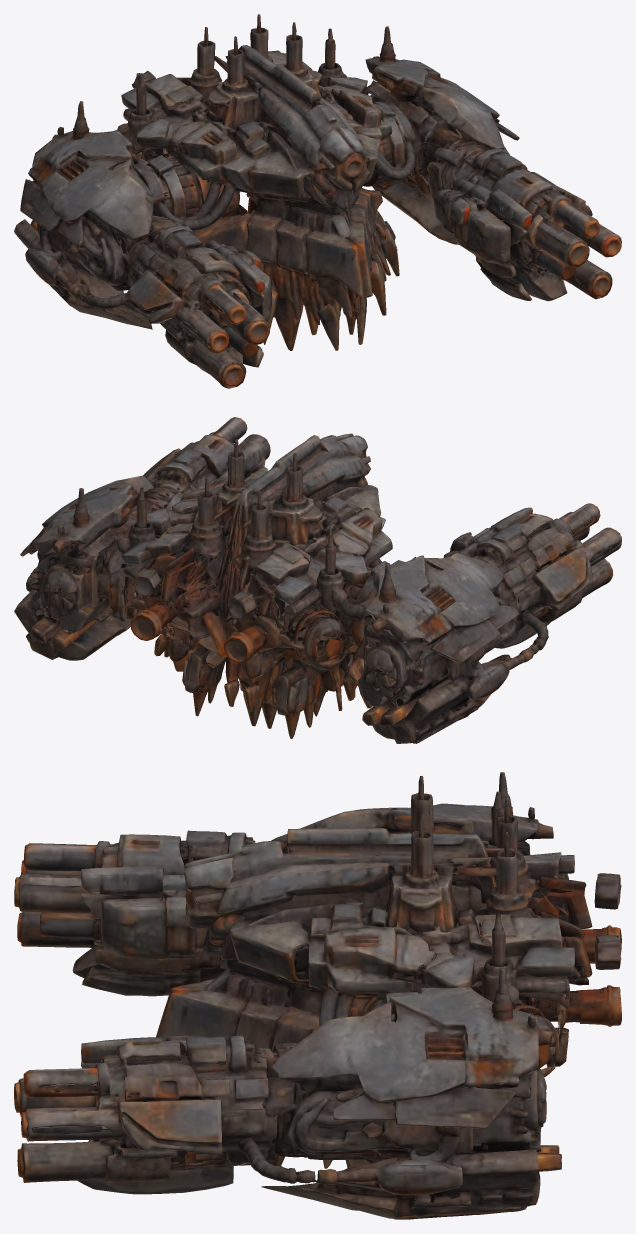
Rendered from leviathan-boss.glb.
3 views of the same model, one above another, from view 1: azimuth 30°, elevation 25°; view 2: azimuth 150°, elevation 25°; view 3: azimuth 270°, elevation 25° (orthographic). The views are drawn at different scales.
Parts seen in each view (by area): view 1: world; view 2: world; view 3: world.
Boxes of the visible parts, x1,y1,x2,y2 form: world: [14, 14, 621, 388]; world: [14, 417, 621, 743]; world: [14, 772, 621, 1219].
Bounding box in the file's own units: 0.9879 × 0.6204 × 0.8591.
Materials: 1 (1 with a texture image).
